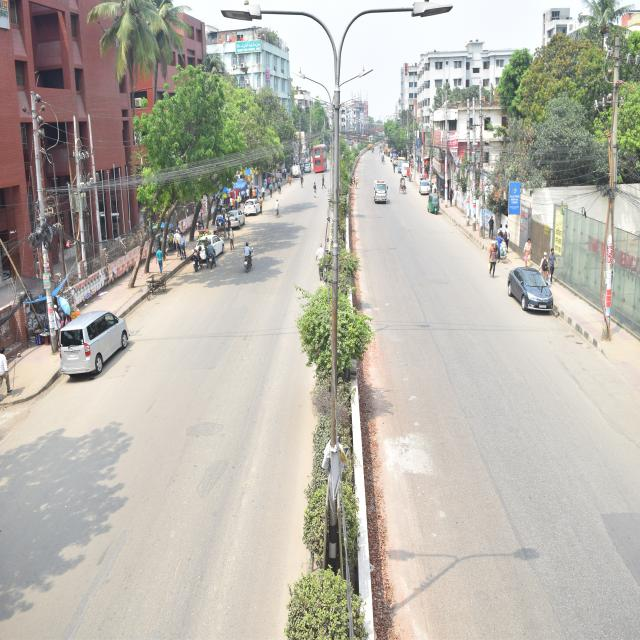bus: (301, 155, 314, 180)
car: (36, 284, 147, 409), (496, 235, 565, 354), (173, 216, 231, 264), (239, 192, 275, 240), (216, 200, 257, 232), (310, 134, 332, 182), (415, 170, 440, 204), (398, 161, 418, 181)
motorbike: (236, 228, 264, 287), (195, 238, 222, 281), (181, 235, 209, 273)
pickup-van: (366, 171, 394, 227), (388, 150, 411, 176), (286, 160, 302, 188)
